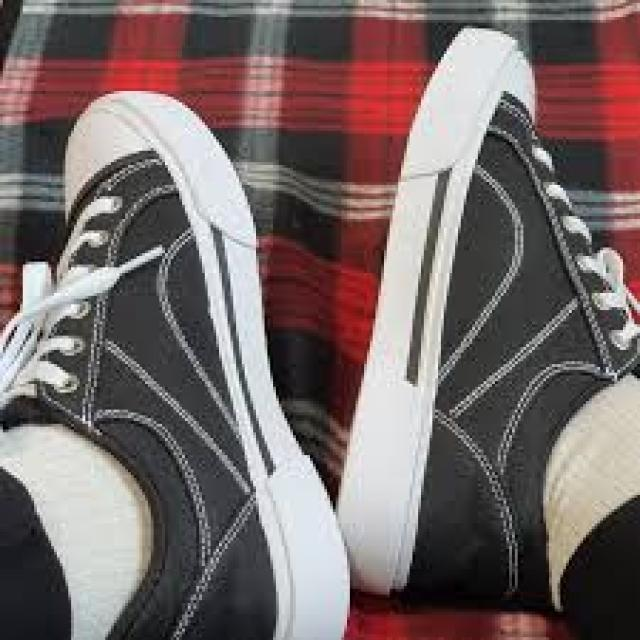shoe: (12, 89, 367, 640), (336, 18, 637, 628)
